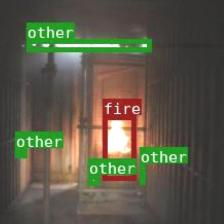fire: (102, 114, 135, 180)
